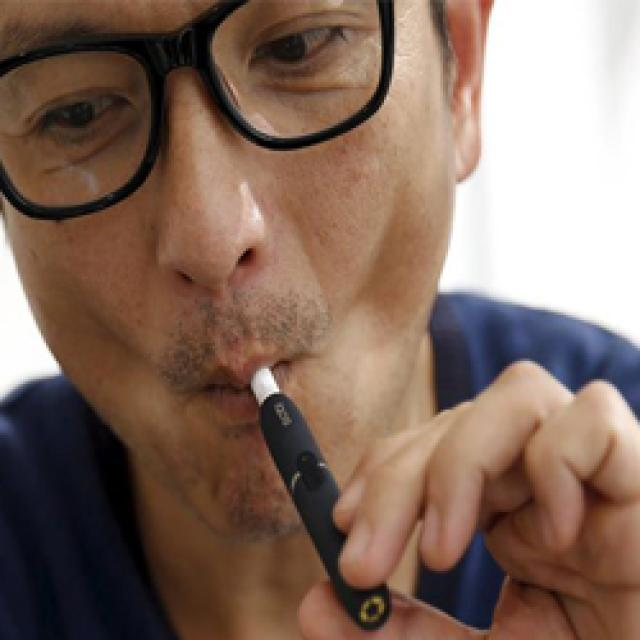Smooking: (241, 362, 413, 634)
